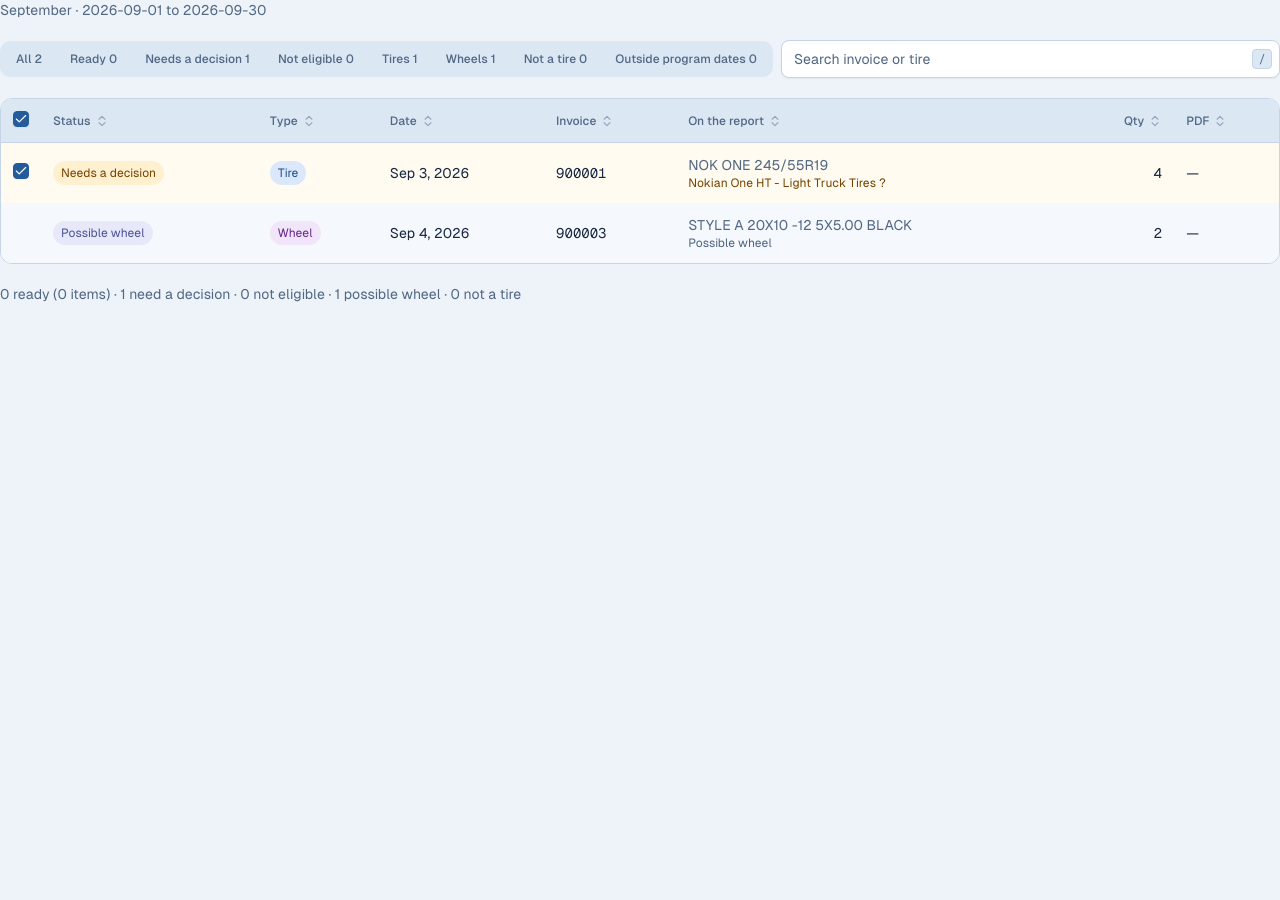
says when the claim page has no wheel products
Click the text "900003" at [581, 233], box [544,203,676,263]
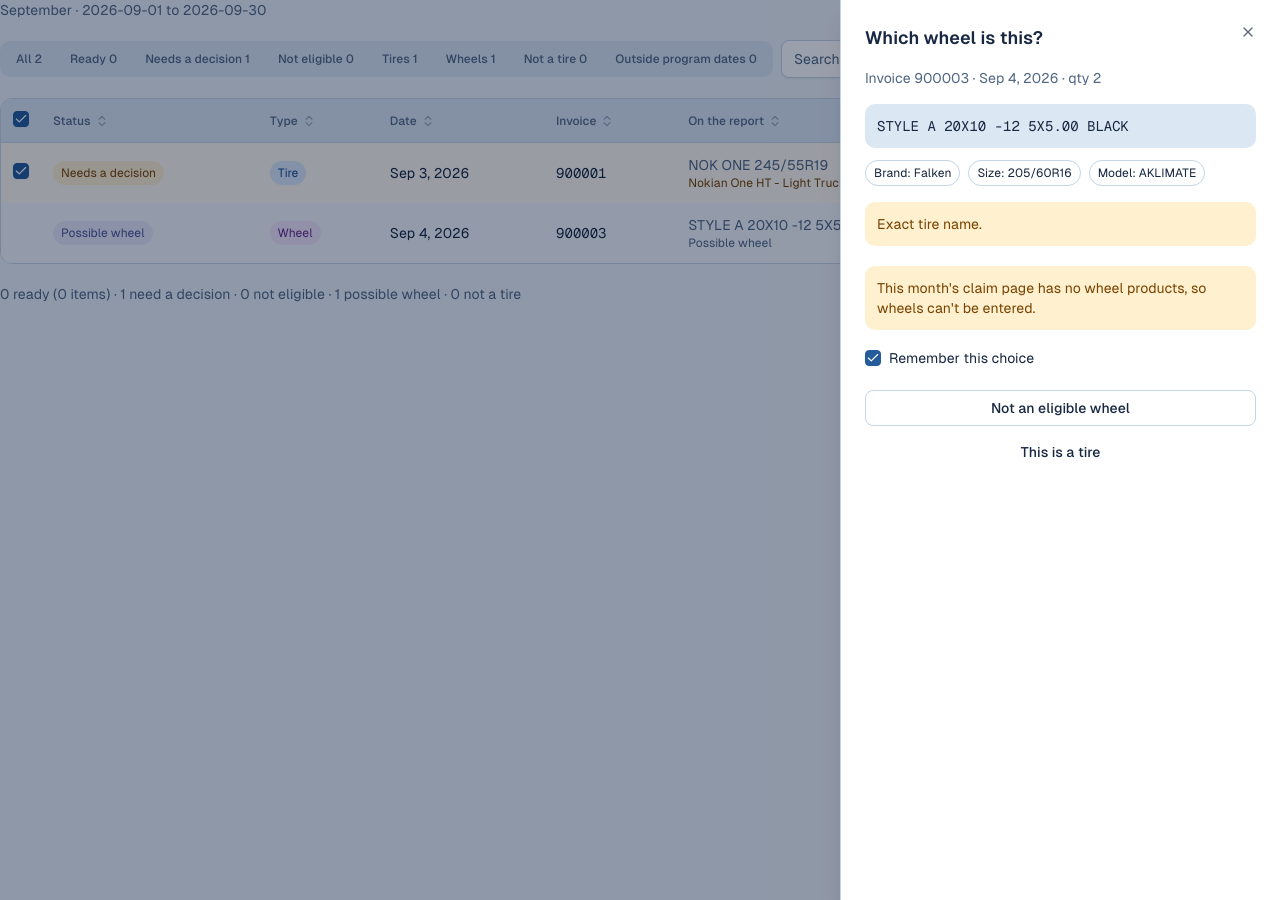
Check: the text "has no wheel products" is shown, box [877,280,1206,316]
